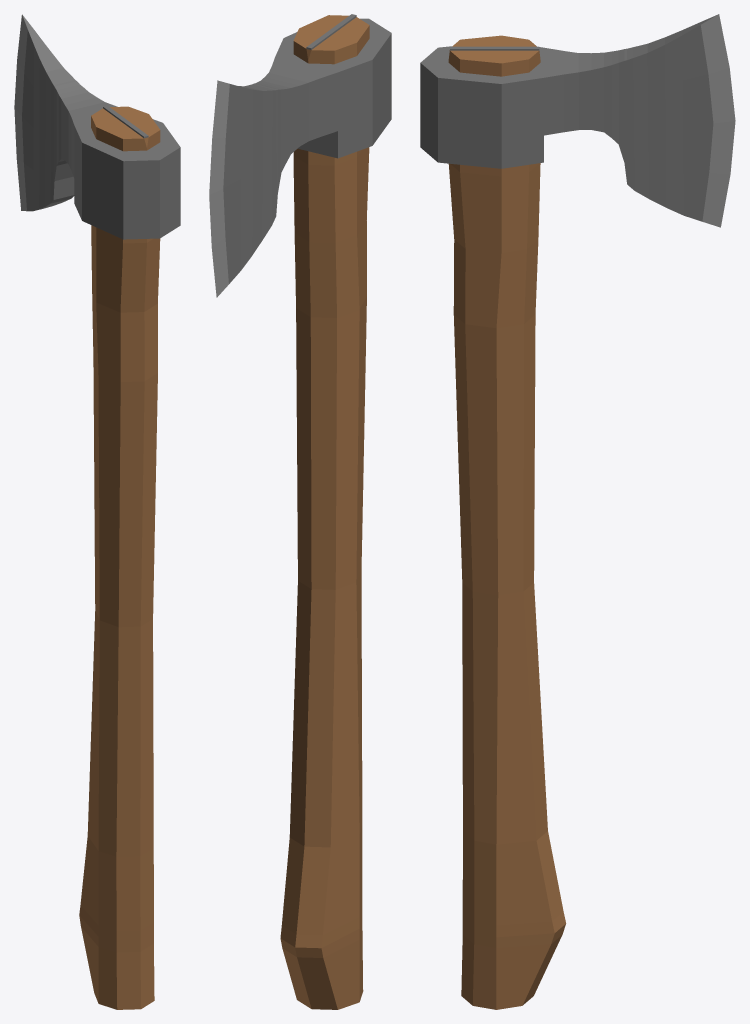
File: beardedAxewithEyeSocket.fbx
3 renders of one model, left to right at view 1: azimuth 30°, elevation 25°; view 2: azimuth 150°, elevation 25°; view 3: azimuth 270°, elevation 25°, orthographic. The views are drawn at different scales.
Visible parts, largest first — view 1: BeardedAxewithEyeSocket; view 2: BeardedAxewithEyeSocket; view 3: BeardedAxewithEyeSocket.
Boxes of the visible parts, x1,y1,x2,y2 form: BeardedAxewithEyeSocket: (14,14,180,1009); BeardedAxewithEyeSocket: (209,14,391,1009); BeardedAxewithEyeSocket: (420,14,735,1009).
Bounding box in the file's own units: 15.68 × 168 × 48.84.
